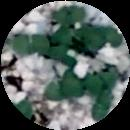Basil: (48, 28, 74, 59), (46, 76, 78, 99), (15, 35, 50, 55), (86, 28, 119, 49), (91, 91, 116, 118), (88, 70, 114, 93), (56, 6, 84, 20)
